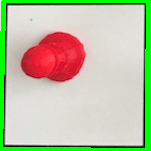Red Pawn: (18, 29, 87, 85)
